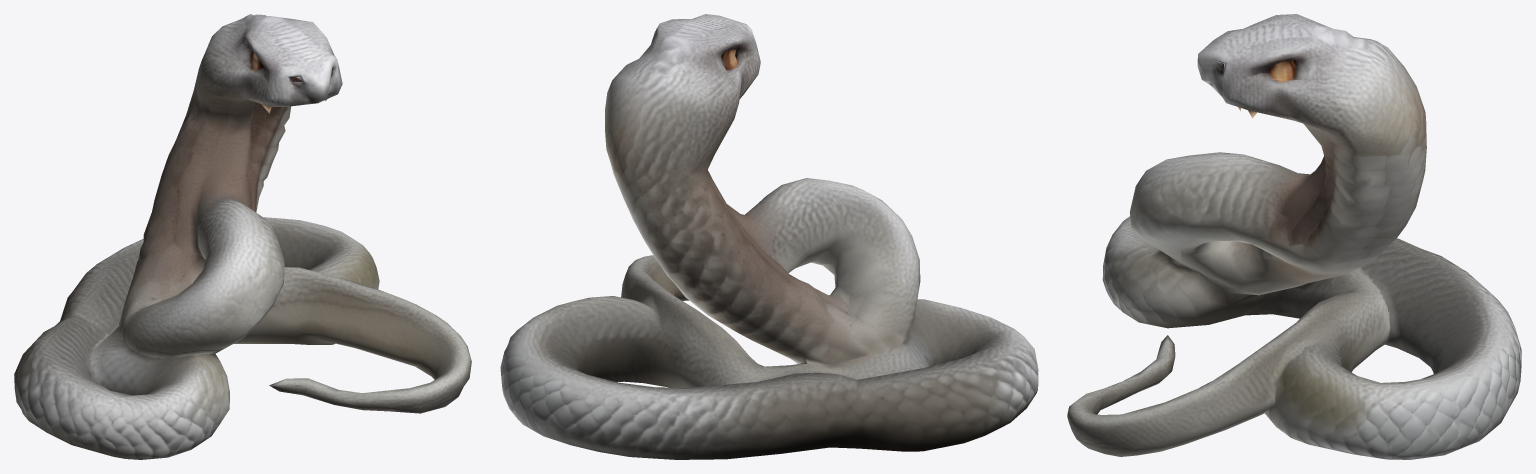
Rendered from cobra.glb.
3 views of the same model, side by side, from view 1: azimuth 30°, elevation 25°; view 2: azimuth 150°, elevation 25°; view 3: azimuth 270°, elevation 25° (orthographic). The views are drawn at different scales.
Parts seen in each view (by area): view 1: Prop; view 2: Prop; view 3: Prop.
Part boxes in pixels (bbox=[...]): Prop: bbox=[14, 14, 471, 459]; Prop: bbox=[500, 14, 1038, 459]; Prop: bbox=[1067, 14, 1521, 459].
Size of the model in its own units: 1.91 by 1.5 by 1.64.
Materials: 1 (1 with a texture image).
